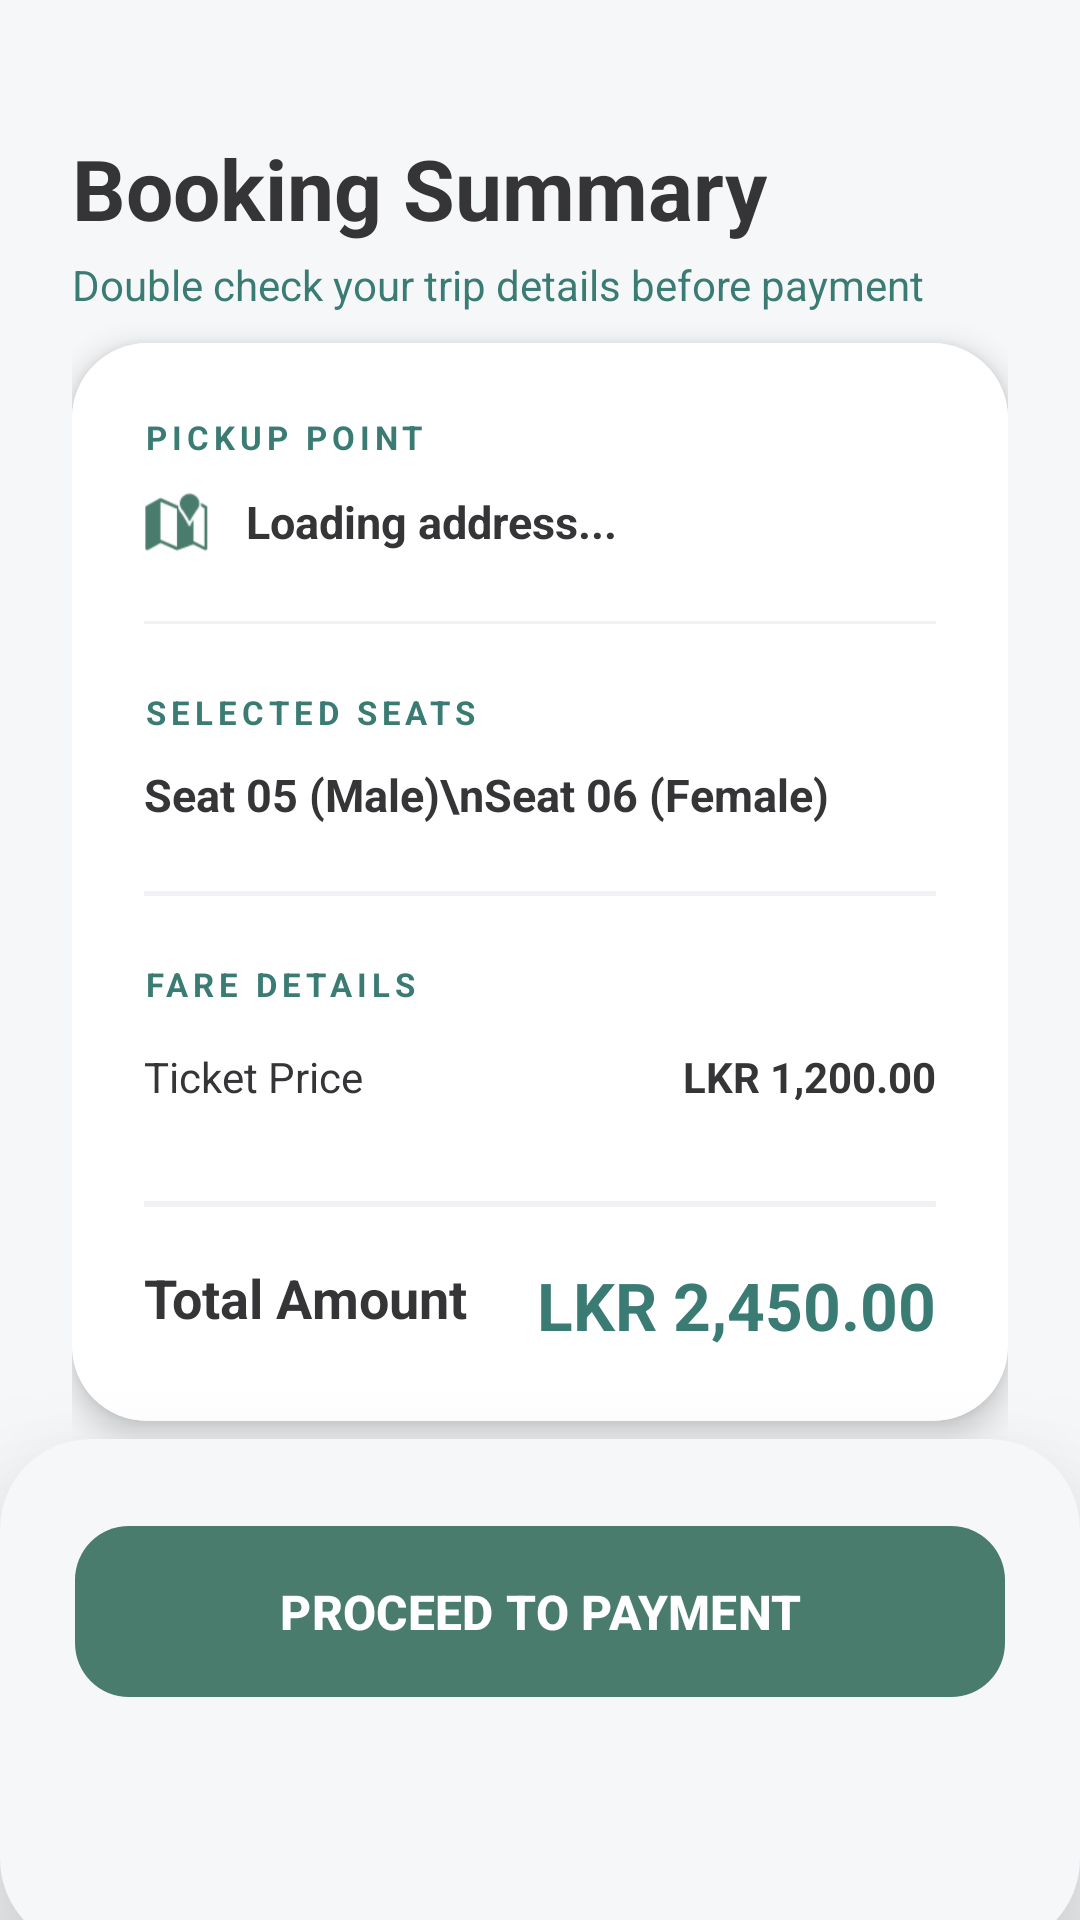

Named icons in this screenshot (1080px x 1920px) and their centers, point (x, y):
map: point (176, 522)
